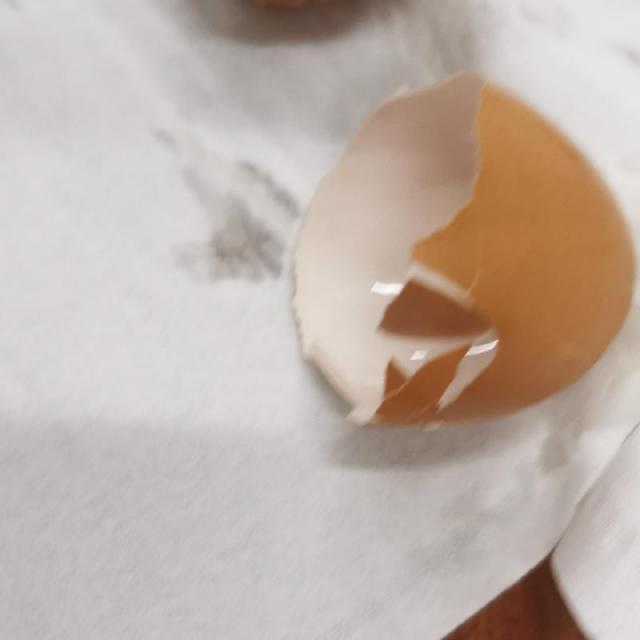egg shell: (286, 72, 640, 430)
